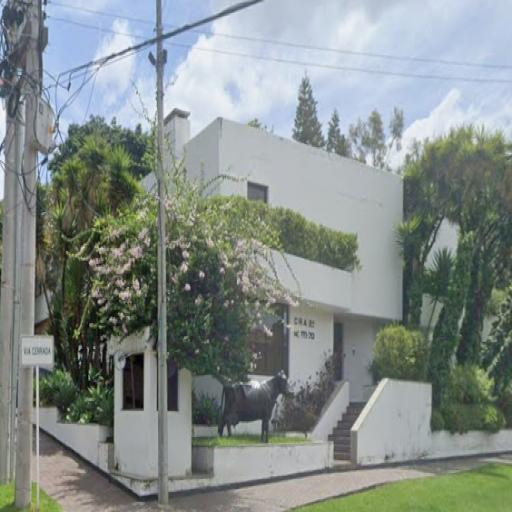Casa: (106, 107, 434, 497)
postes: (0, 0, 56, 512), (148, 0, 171, 512)
